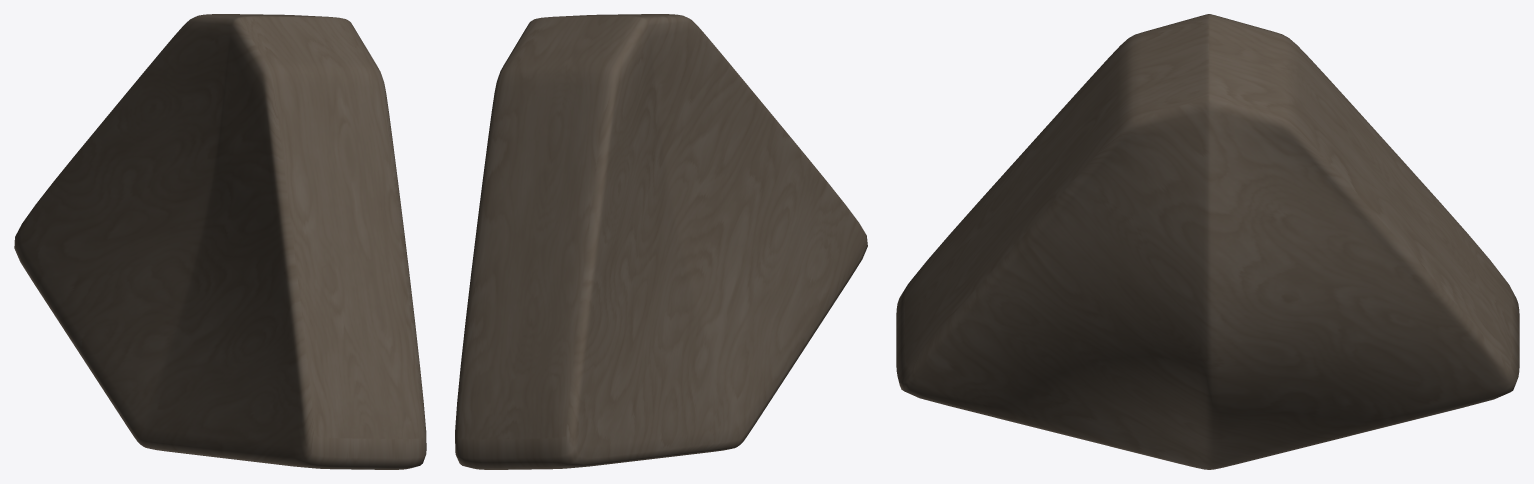
File: Menton alien.fbx
3 renders of one model, left to right at view 1: azimuth 30°, elevation 25°; view 2: azimuth 150°, elevation 25°; view 3: azimuth 270°, elevation 25°, orthographic. The views are drawn at different scales.
Visible parts, largest first — view 1: Menton alien bas; view 2: Menton alien bas; view 3: Menton alien bas.
Boxes of the visible parts, box(x1,y1,x2,y2) form: Menton alien bas: box(14, 14, 426, 469); Menton alien bas: box(455, 14, 867, 469); Menton alien bas: box(896, 14, 1519, 469).
Size of the model in its own units: 5.89 by 9.82 by 12.39.
1 material, 1 textured.
